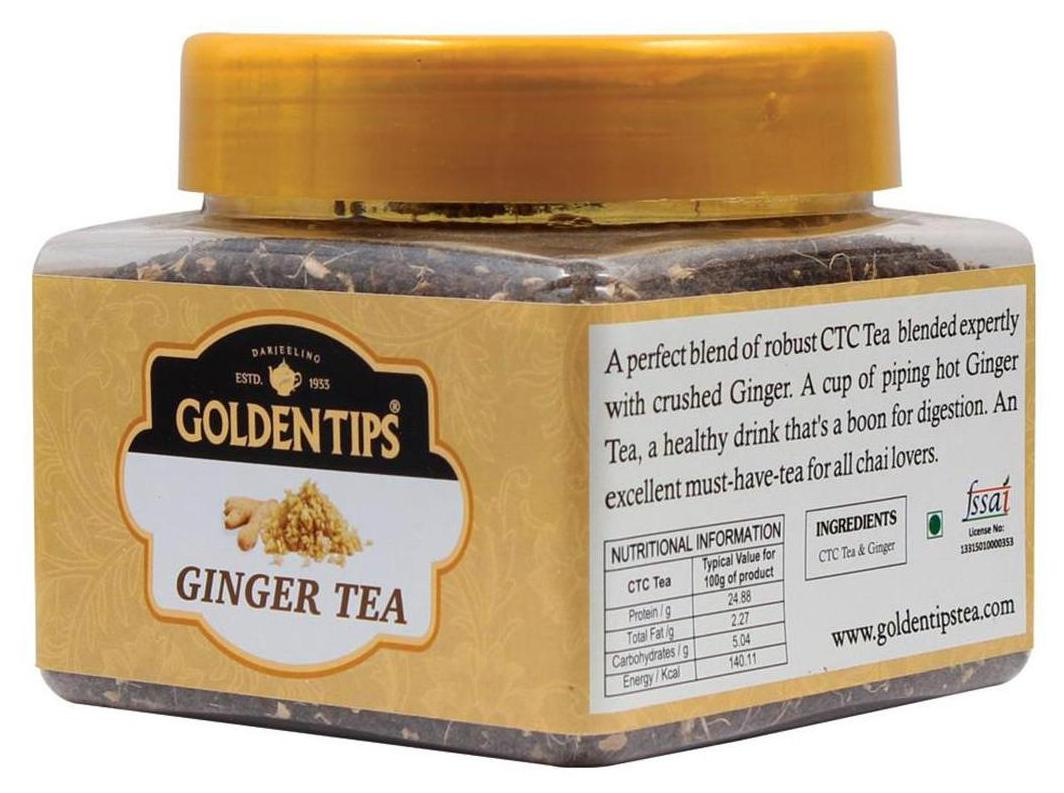JAR: (24, 23, 1049, 773)
